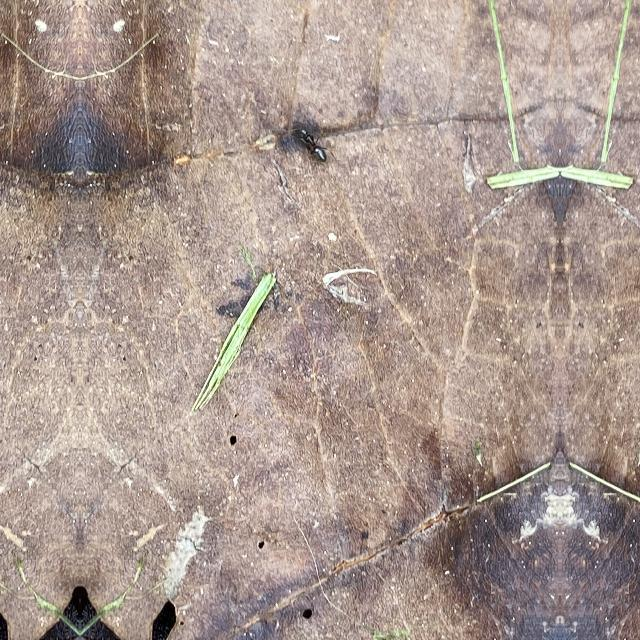Tapinoma: (295, 120, 331, 168), (212, 294, 240, 320), (228, 273, 250, 295)
